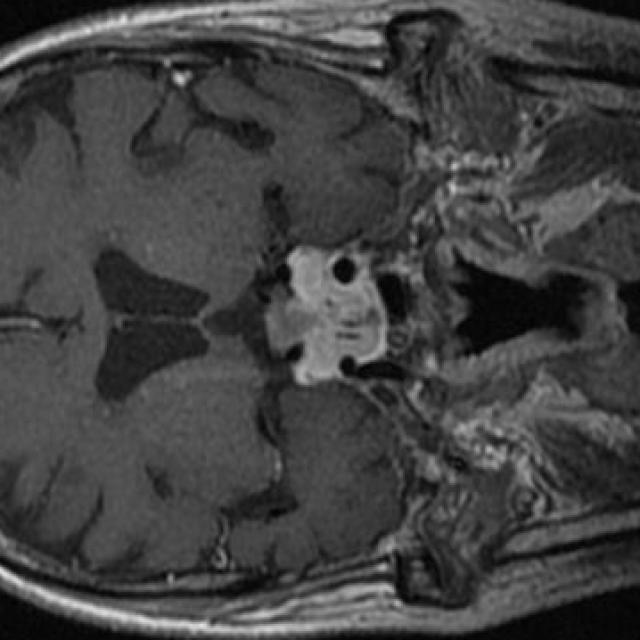pituitary: (283, 246, 389, 387)
